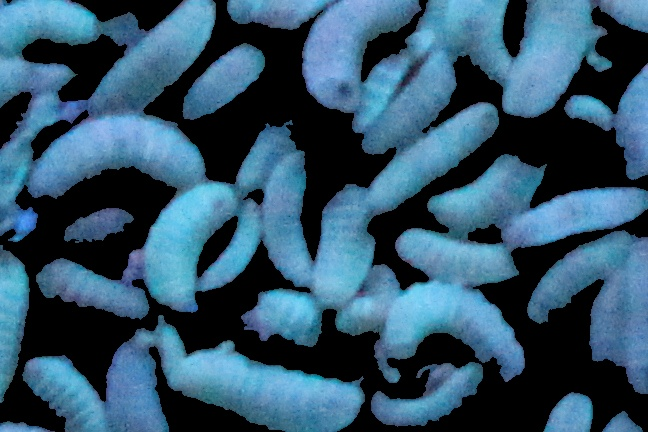larvae: (176, 344, 365, 431), (29, 114, 207, 194), (90, 1, 216, 114), (382, 282, 528, 375), (371, 103, 498, 208), (301, 1, 420, 110), (143, 180, 239, 307), (502, 1, 596, 117), (429, 150, 548, 231), (525, 234, 629, 322), (363, 56, 457, 153), (501, 182, 647, 243), (311, 179, 374, 305), (260, 148, 314, 283), (354, 33, 431, 127), (371, 365, 483, 429), (397, 225, 516, 285), (36, 257, 149, 320), (590, 244, 648, 364), (104, 333, 168, 432), (183, 42, 264, 119), (23, 357, 105, 431), (199, 197, 261, 290), (1, 1, 99, 59), (234, 286, 323, 344), (236, 116, 305, 189), (1, 246, 29, 411), (44, 197, 138, 245), (334, 264, 397, 334), (617, 57, 648, 186), (1, 58, 79, 102), (471, 1, 513, 77), (152, 316, 191, 393), (622, 286, 648, 397), (565, 88, 613, 128), (1, 1, 2, 22)
